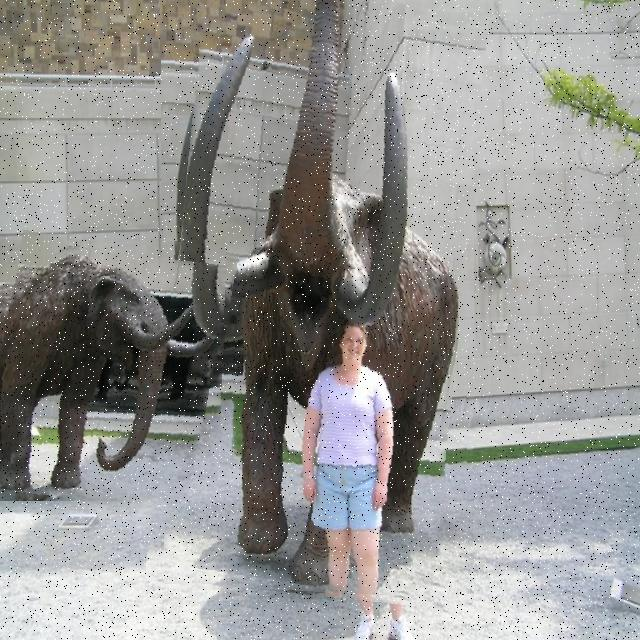elephant: (160, 0, 474, 600), (0, 238, 227, 501)
